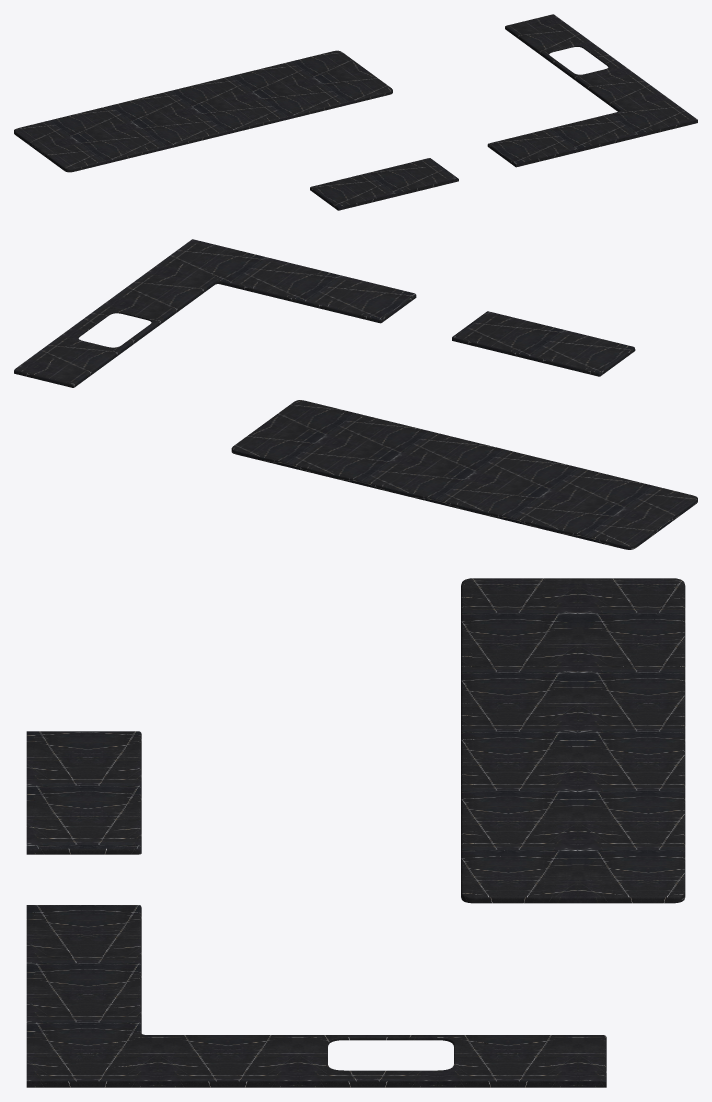
File: 1860_kitchen_Countertops_QuartzEtNoir.gltf
3 renders of one model, top to bottom at view 1: azimuth 30°, elevation 25°; view 2: azimuth 150°, elevation 25°; view 3: azimuth 270°, elevation 25°, orthographic. The views are drawn at different scales.
Parts seen in each view (by area): view 1: Countertops_Quartz Et Noir; view 2: Countertops_Quartz Et Noir; view 3: Countertops_Quartz Et Noir.
Part boxes in pixels (x1=…): Countertops_Quartz Et Noir: x1=14, y1=14, x2=697, y2=210; Countertops_Quartz Et Noir: x1=14, y1=239, x2=697, y2=549; Countertops_Quartz Et Noir: x1=26, y1=578, x2=685, y2=1087.
Size of the model in its own units: 8.6 by 0.09 by 4.7.
Materials: 1 (1 with a texture image).
